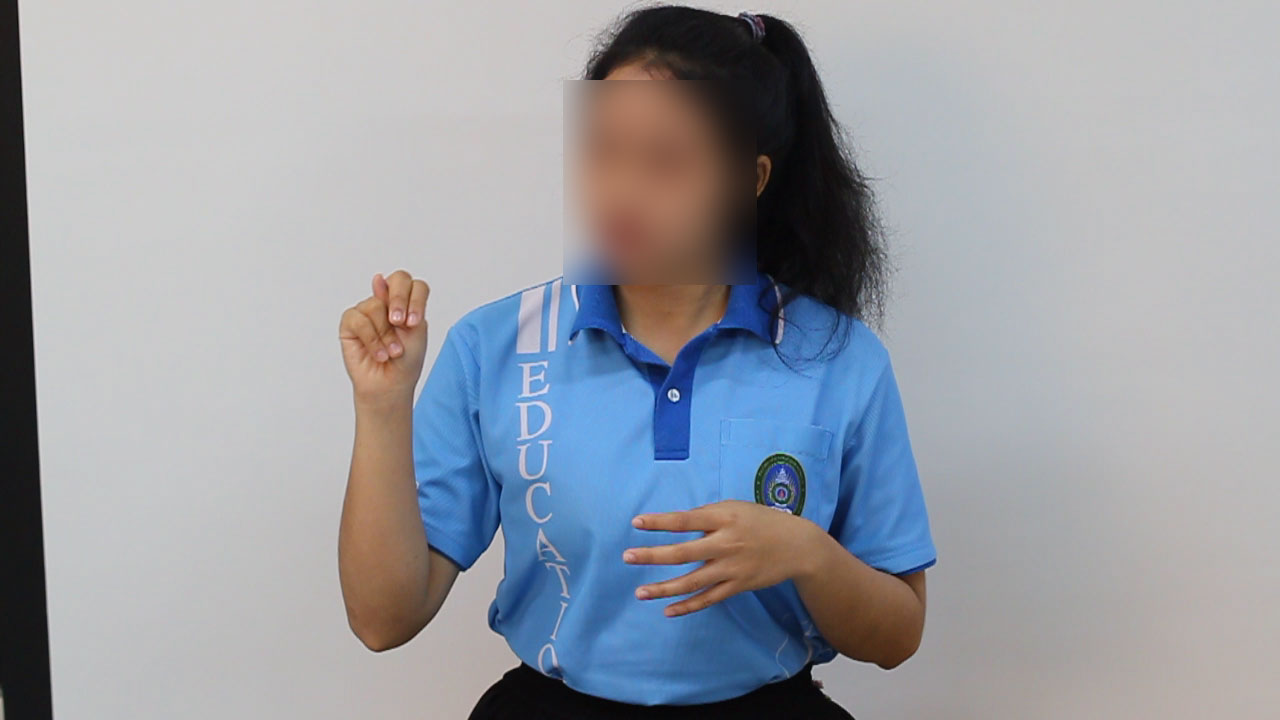nor: (321, 255, 447, 409)
